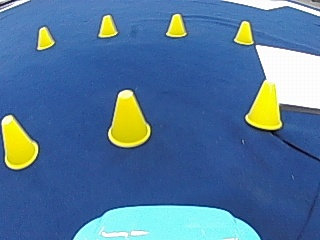cone: (107, 88, 150, 146), (0, 114, 38, 168), (245, 79, 282, 129), (165, 12, 187, 37), (233, 20, 254, 44), (97, 14, 118, 37), (36, 25, 55, 49)
